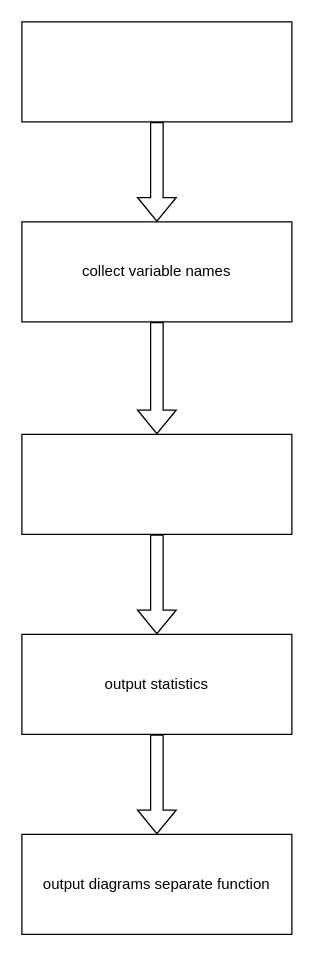
Image size: 314x956. Some labels were removed from this diagram. Here are the shapes that lost their labels. From the top down, the centre of each, then its label:
At (156,71): "Load data".
At (156,483): "calculate descriptive statistics".
